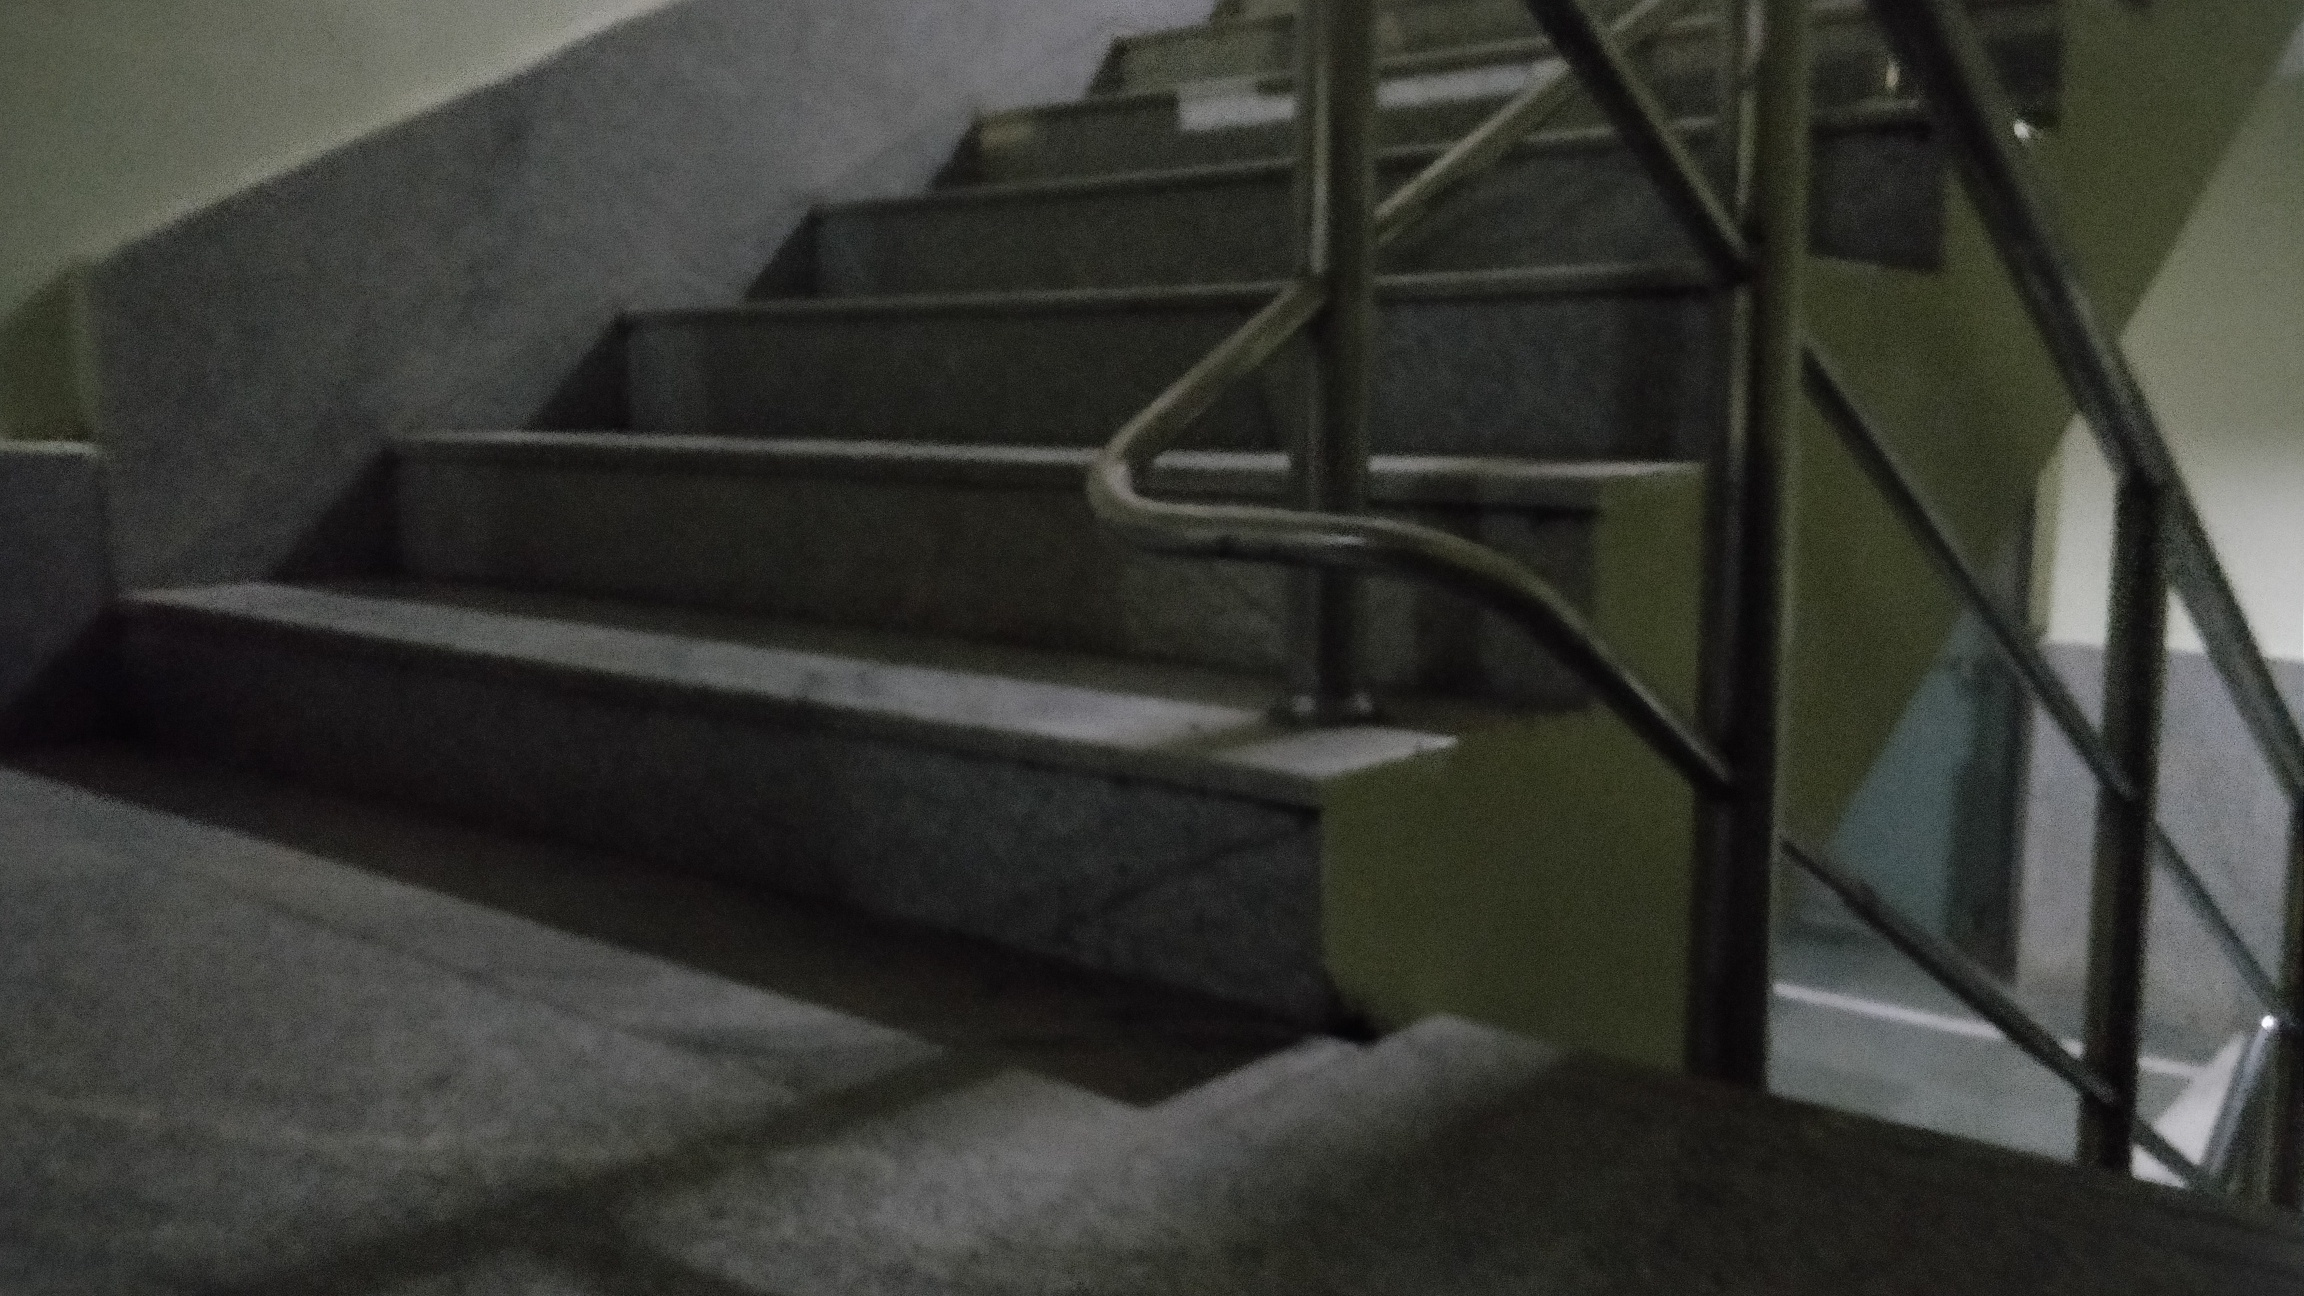stairs_up: (120, 5, 1728, 940)
